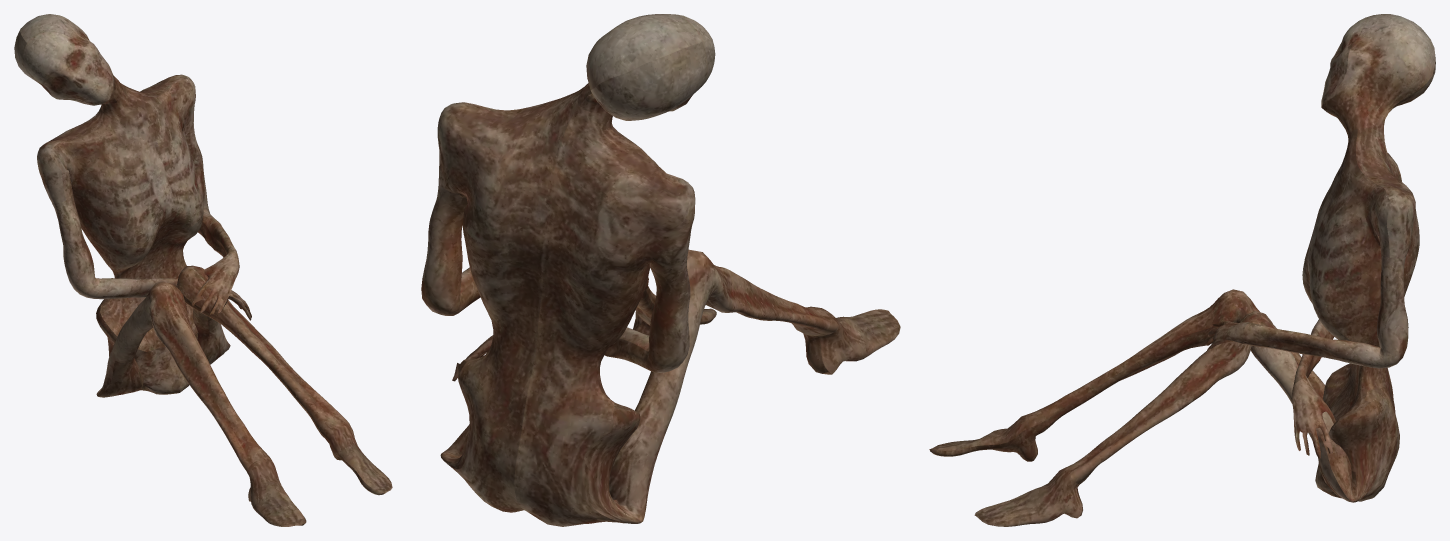
3 views of the same model, side by side, from view 1: azimuth 30°, elevation 25°; view 2: azimuth 150°, elevation 25°; view 3: azimuth 270°, elevation 25° (orthographic). The views are drawn at different scales.
Parts seen in each view (by area): view 1: SM_Corpse01_LOD0; view 2: SM_Corpse01_LOD0; view 3: SM_Corpse01_LOD0.
Boxes of the visible parts, x1,y1,x2,y2 form: SM_Corpse01_LOD0: (14,14,392,526); SM_Corpse01_LOD0: (421,14,900,526); SM_Corpse01_LOD0: (929,14,1435,526).
Size of the model in its own units: 0.4812 by 0.8666 by 0.9449.
Materials: 1 (1 with a texture image).
